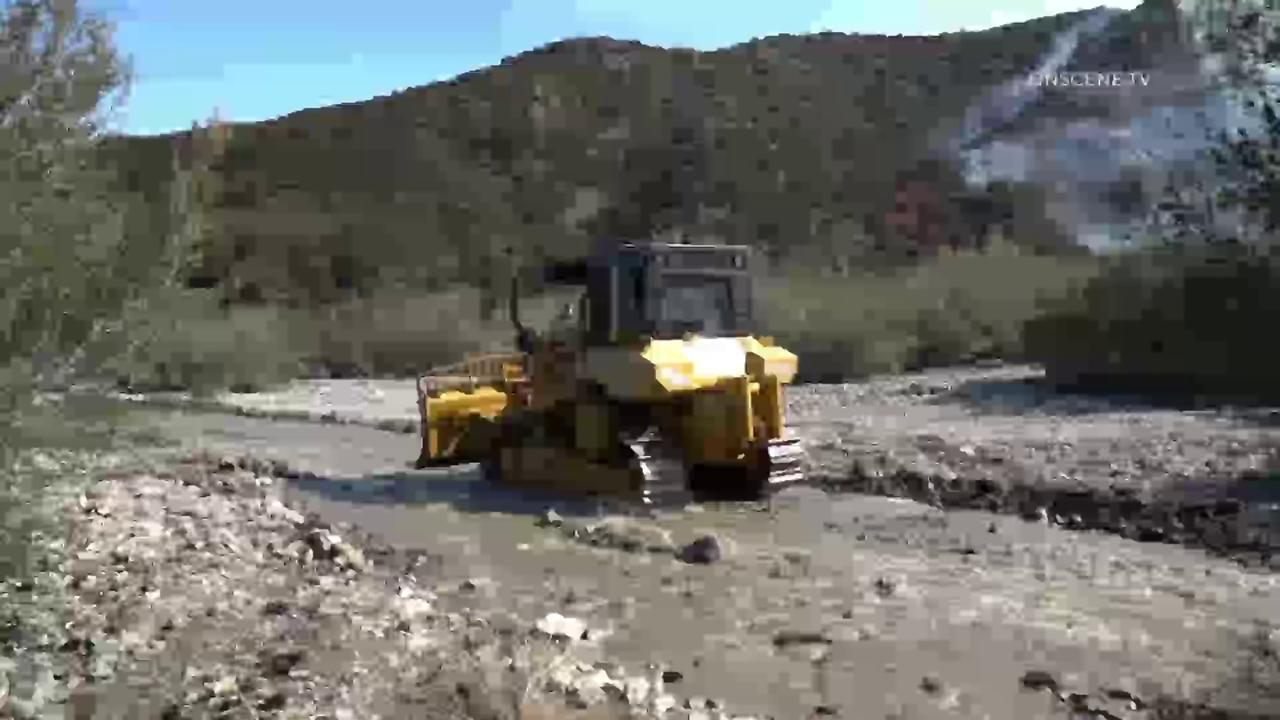smoke: (947, 1, 1280, 258)
